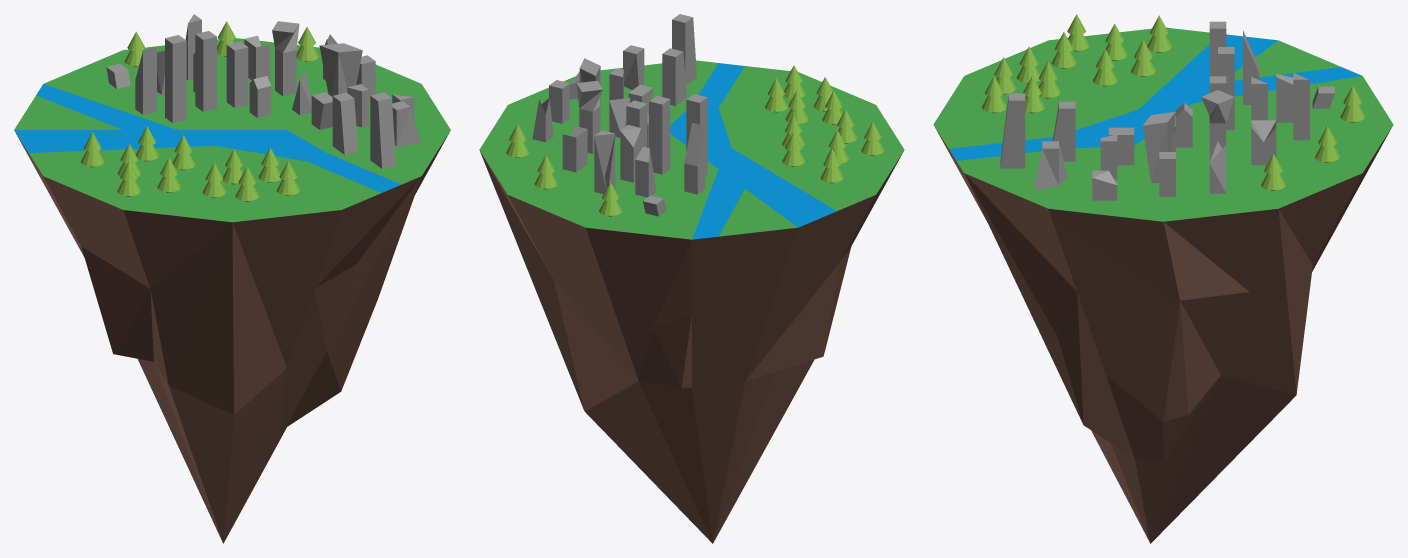
3 views of the same model, side by side, from view 1: azimuth 30°, elevation 25°; view 2: azimuth 150°, elevation 25°; view 3: azimuth 270°, elevation 25° (orthographic). The views are drawn at different scales.
Parts seen in each view (by area): view 1: group_1980036612; view 2: group_1980036612; view 3: group_1980036612, group_56898970, group_1604548741, group_1750595242, group_600758254, group_1089817503, group_232680038, group_914371189, group_162111949.
Boxes of the visible parts, left/top/right/bottom form: group_1980036612: left=14, top=14, right=450, bottom=543; group_1980036612: left=479, top=14, right=904, bottom=543; group_1980036612: left=933, top=21, right=1393, bottom=543; group_56898970: left=1092, top=49, right=1117, bottom=86; group_1604548741: left=981, top=76, right=1006, bottom=113; group_1750595242: left=1340, top=85, right=1365, bottom=122; group_600758254: left=1051, top=32, right=1076, bottom=68; group_1089817503: left=1131, top=40, right=1155, bottom=76; group_232680038: left=1315, top=125, right=1339, bottom=162; group_914371189: left=1261, top=153, right=1285, bottom=190; group_162111949: left=1147, top=15, right=1171, bottom=52.
Bounding box in the file's own units: 145 × 178 × 145.
